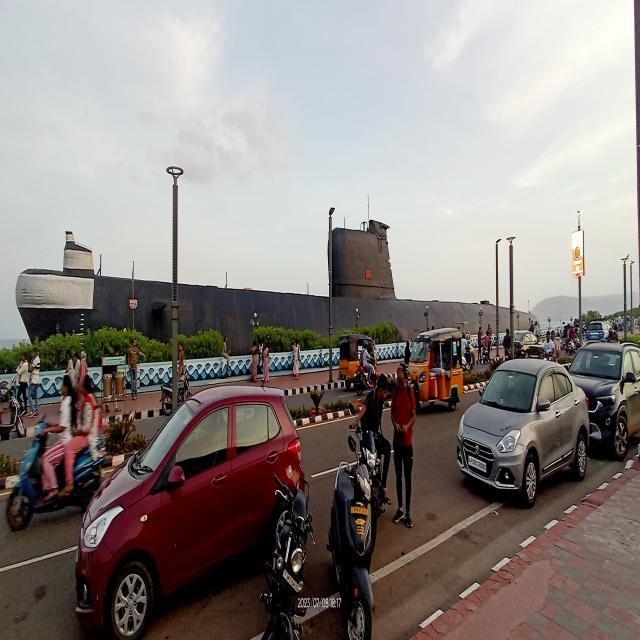bike: (11, 414, 96, 529), (334, 434, 378, 640), (266, 467, 318, 640), (358, 426, 388, 500), (1, 389, 26, 443), (157, 372, 191, 411), (351, 360, 378, 395), (462, 350, 474, 372), (569, 335, 581, 353), (481, 344, 489, 364)
car: (78, 379, 319, 624), (456, 354, 588, 518), (574, 335, 640, 466), (512, 328, 544, 357), (585, 314, 611, 341)
ship: (15, 150, 537, 342)
